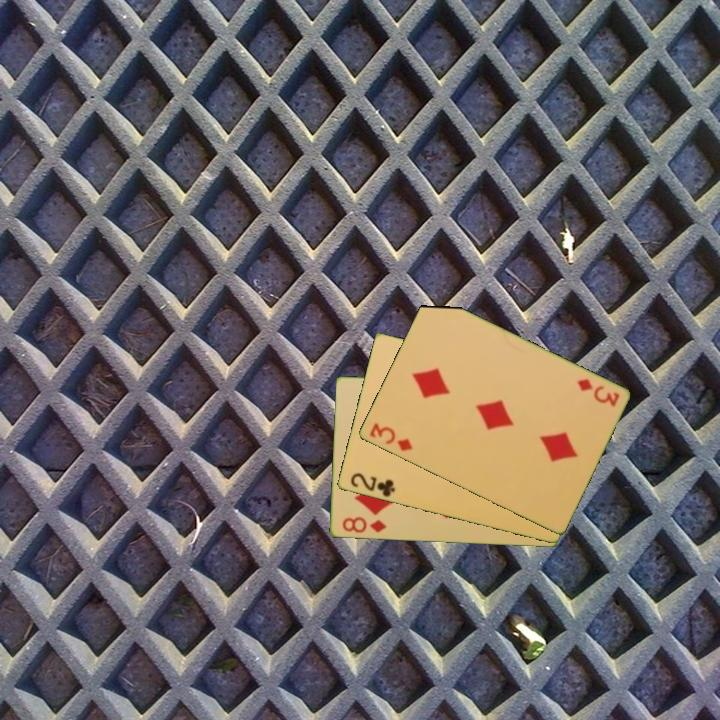2c: (346, 469, 398, 500)
3d: (366, 419, 416, 454), (573, 375, 622, 410)
8d: (338, 513, 389, 536)
